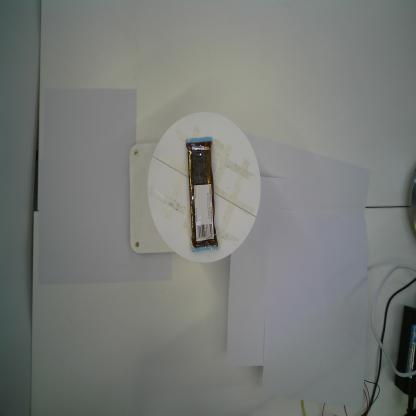Chocolate: (185, 136, 220, 254)
